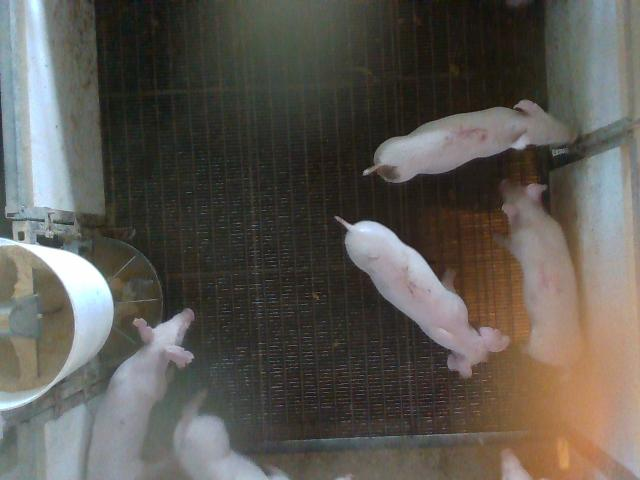pig-4: (500, 180, 582, 367)
pig-5: (364, 100, 575, 182)
